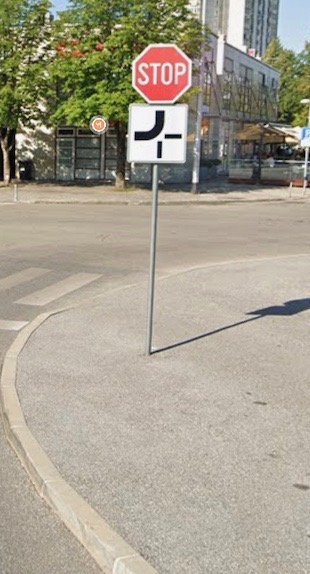Obavezno zaustavljanje: (132, 44, 192, 103)
